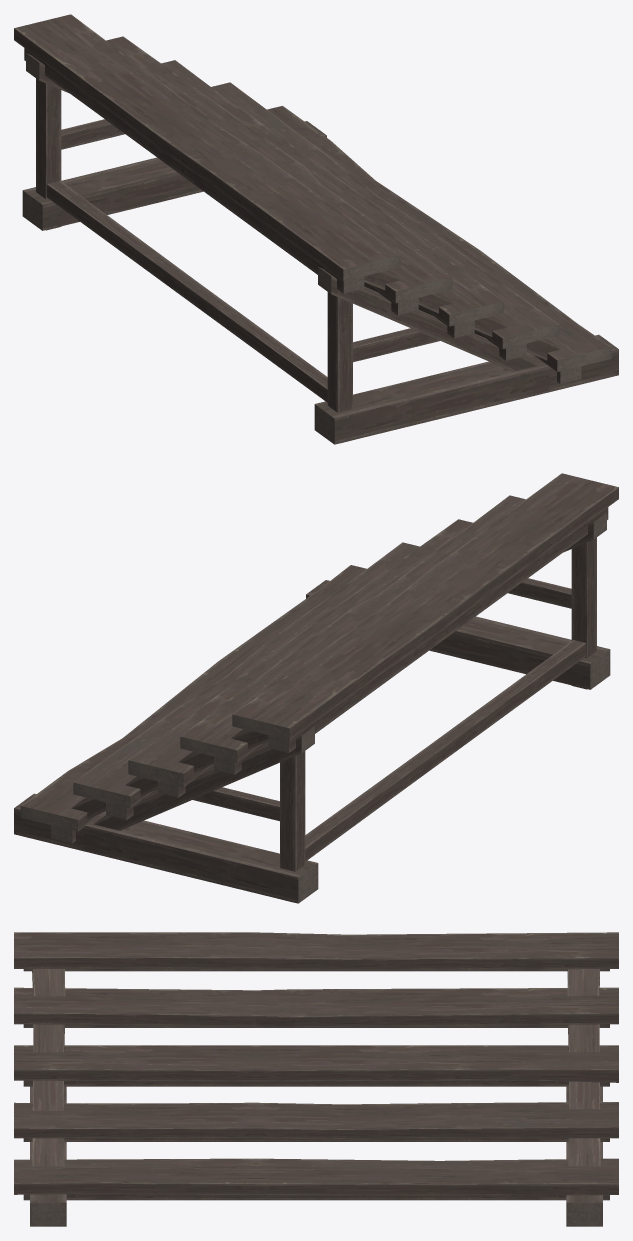
The model's file is Homeworld_Exterior_Common_Thing_Stairs_Wood_01_Vo.fbx.
3 views of the same model, one above another, from view 1: azimuth 30°, elevation 25°; view 2: azimuth 150°, elevation 25°; view 3: azimuth 270°, elevation 25° (orthographic). The views are drawn at different scales.
Visible parts, largest first — view 1: Homeworld_Exterior_Common_Thing_Stairs_Wood_01_Vo; view 2: Homeworld_Exterior_Common_Thing_Stairs_Wood_01_Vo; view 3: Homeworld_Exterior_Common_Thing_Stairs_Wood_01_Vo.
Part boxes in pixels (x1,y1,x2,y2): Homeworld_Exterior_Common_Thing_Stairs_Wood_01_Vo: (14, 14, 618, 444); Homeworld_Exterior_Common_Thing_Stairs_Wood_01_Vo: (14, 473, 618, 903); Homeworld_Exterior_Common_Thing_Stairs_Wood_01_Vo: (14, 932, 618, 1226).
Size of the model in its own units: 2.49 by 1.56 by 5.
